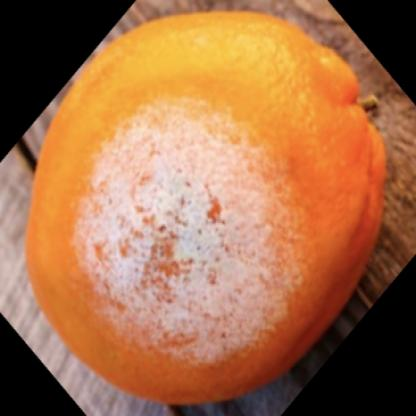rotten: (29, 16, 383, 404)
